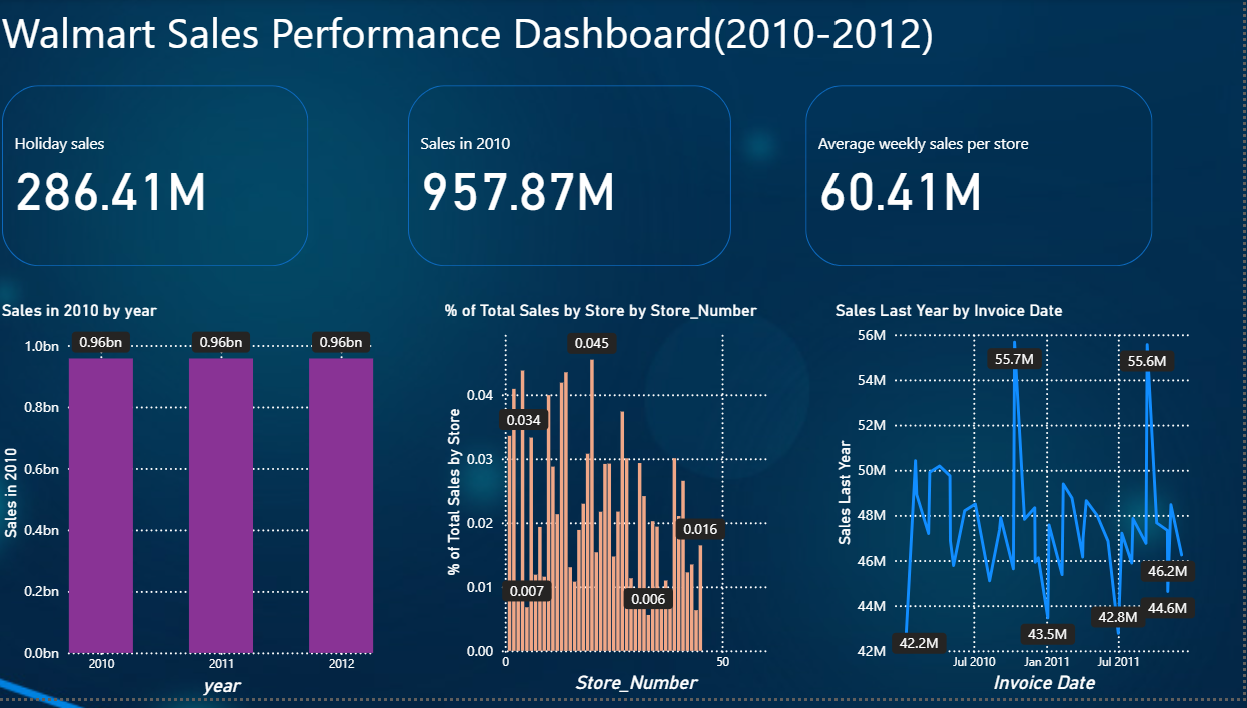

Layout of this report page (visuals, bound fields, positions):
{"tool":"powerbi","page":{"name":"Page 3","canvas":[1280,720],"ordinal":2},"visuals":[{"type":"columnChart","fields":{"Category":["Walmart_sales_analysis.year"],"Y":["Walmart_sales_analysis.Sales in 2010"]},"box":[0,311.2,391.6,410.7],"z":0},{"type":"cardVisual","fields":{"Data":["Walmart_sales_analysis.Holiday sales"]},"box":[0,84.7,326,196.9],"z":1000},{"type":"clusteredColumnChart","fields":{"Category":["Walmart_sales_analysis.Store_Number"],"Y":["Walmart_sales_analysis.% of Total Sales by Store"]},"box":[455.1,311.2,347.2,408.5],"z":2000},{"type":"lineChart","fields":{"Category":["Walmart_sales_analysis.Invoice Date.Variation.Date Hierarchy.Year"],"Y":["DateTable.Sales Last Year"]},"box":[857.3,311.2,387.4,408.5],"z":3000},{"type":"cardVisual","fields":{"Data":["Walmart_sales_analysis.Sales in 2010"]},"box":[417,84.7,342.9,196.9],"z":4000},{"type":"cardVisual","fields":{"Data":["DateTable.Average weekly sales per store"]},"box":[825.5,84.7,366.2,196.9],"z":5000},{"type":"textbox","box":[0,0,1009.7,84.7],"z":6000}]}

Visuals, with their boxes in screenshot pixels (x1, y1, x2, y2), scaled from the page's 1280x720 canvas onto the 1247x708 screenshot:
columnChart - Walmart_sales_analysis.year x Walmart_sales_analysis.Sales in 2010: l=0, t=306, r=382, b=707
cardVisual - Walmart_sales_analysis.Holiday sales: l=0, t=83, r=318, b=277
clusteredColumnChart - Walmart_sales_analysis.Store_Number x Walmart_sales_analysis.% of Total Sales by Store: l=443, t=306, r=782, b=707
lineChart - Walmart_sales_analysis.Invoice Date.Variation.Date Hierarchy.Year x DateTable.Sales Last Year: l=835, t=306, r=1213, b=707
cardVisual - Walmart_sales_analysis.Sales in 2010: l=406, t=83, r=740, b=277
cardVisual - DateTable.Average weekly sales per store: l=804, t=83, r=1161, b=277
textbox: l=0, t=0, r=984, b=83
